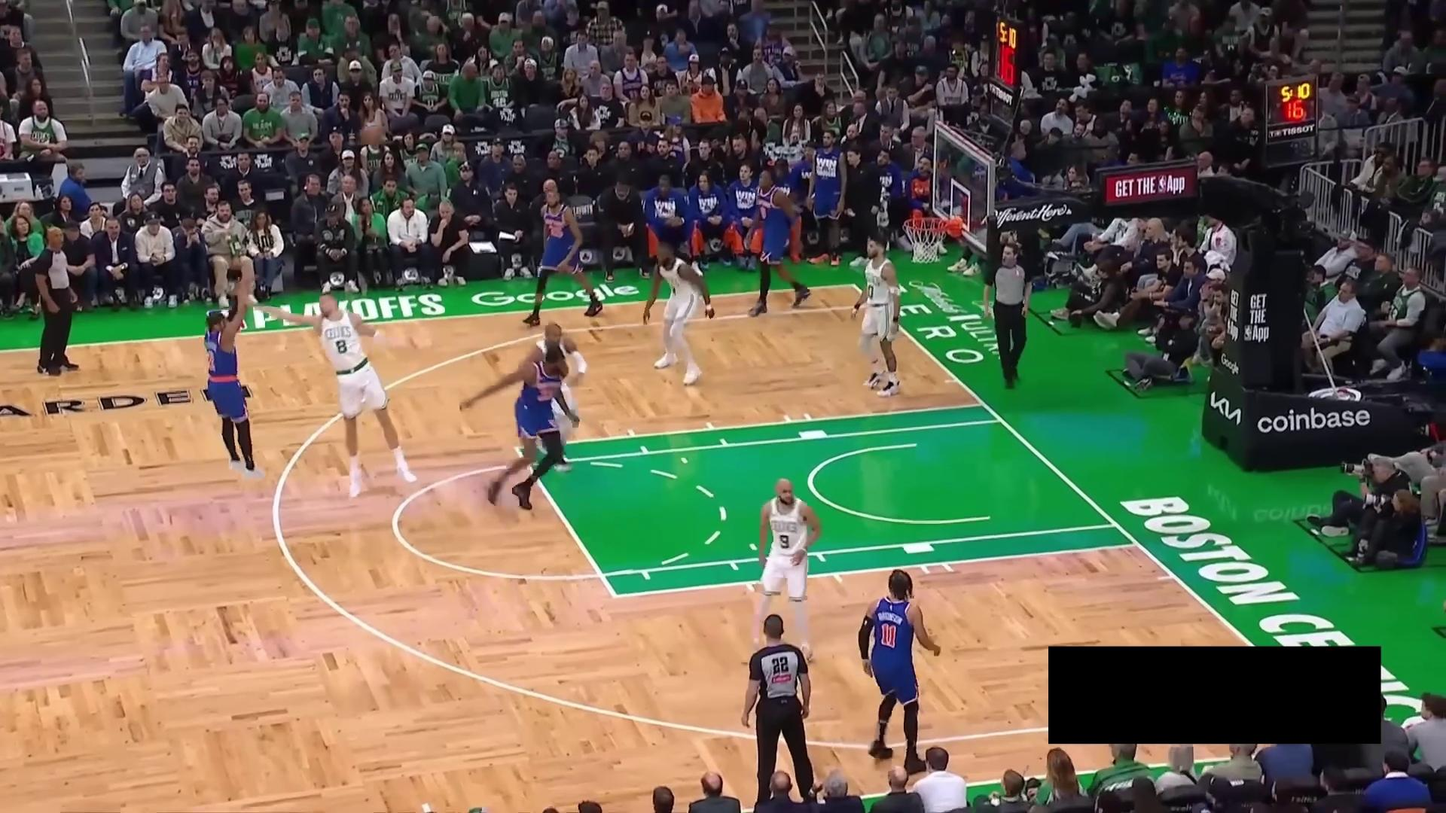ball: (361, 125, 385, 145)
number: (880, 621, 898, 650), (334, 338, 349, 355), (778, 533, 791, 550), (548, 224, 563, 238), (867, 283, 875, 300)
player: (459, 340, 580, 510), (857, 568, 942, 776), (752, 477, 822, 668), (521, 181, 604, 327), (518, 320, 588, 473), (743, 167, 813, 318), (642, 242, 715, 386), (850, 231, 904, 397)
player-jump-shot: (203, 252, 264, 483)
player-shot-block: (240, 291, 418, 498)
referee: (741, 614, 817, 805), (32, 227, 86, 376), (982, 240, 1034, 390)
rim: (903, 216, 949, 233)
